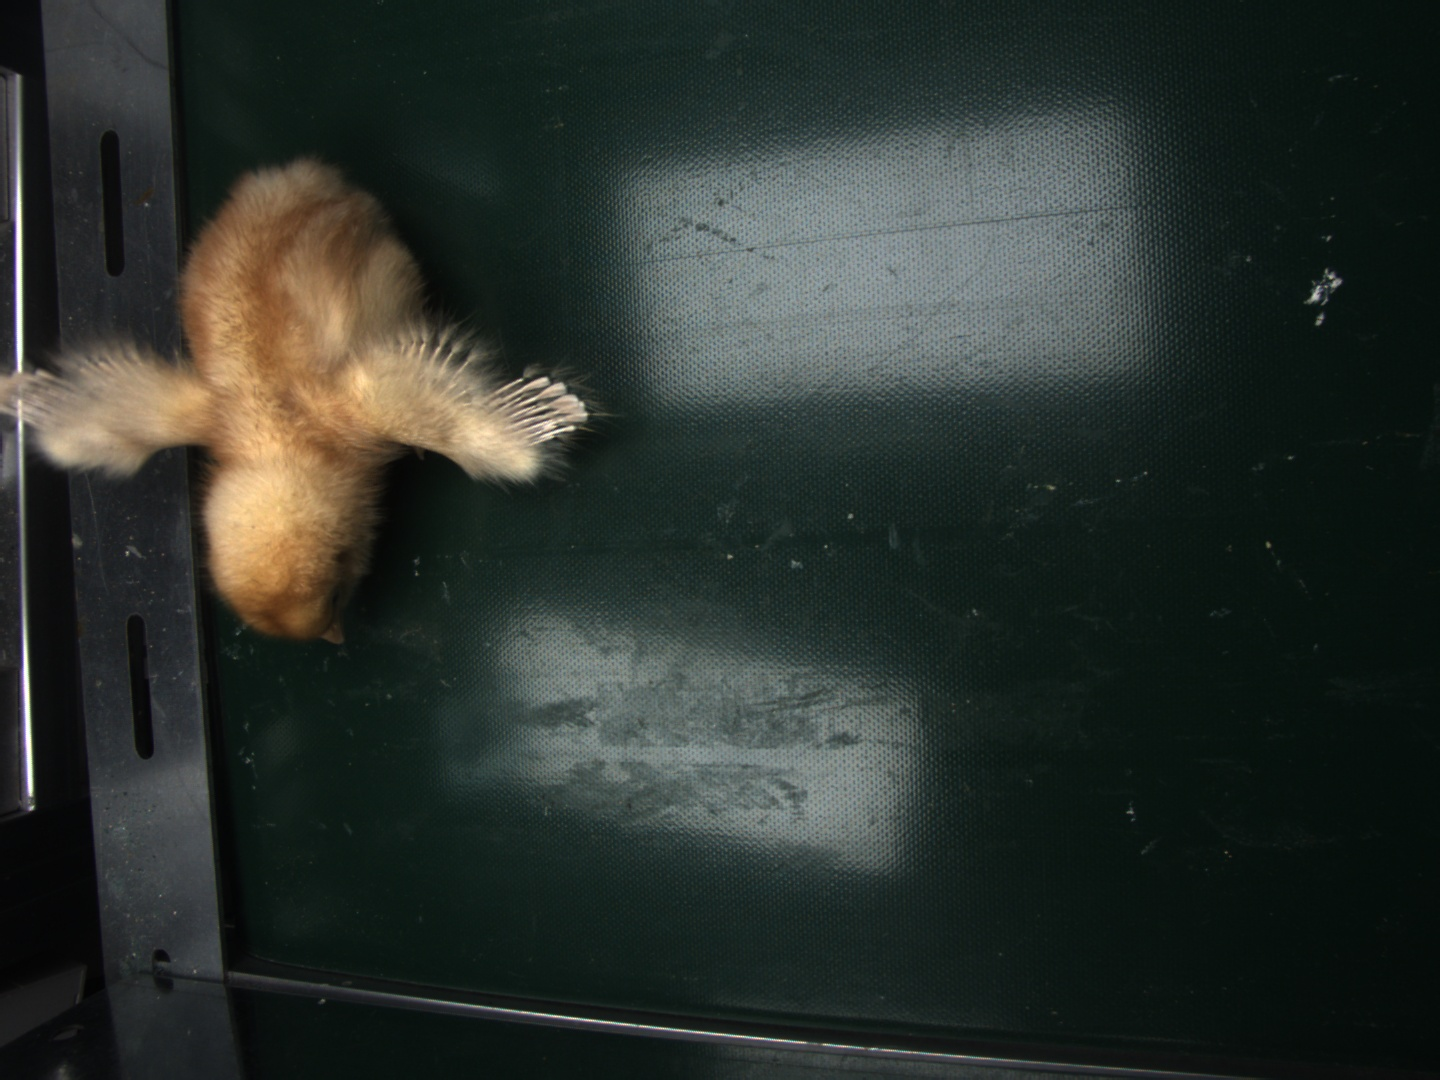female: (494, 376, 586, 449)
